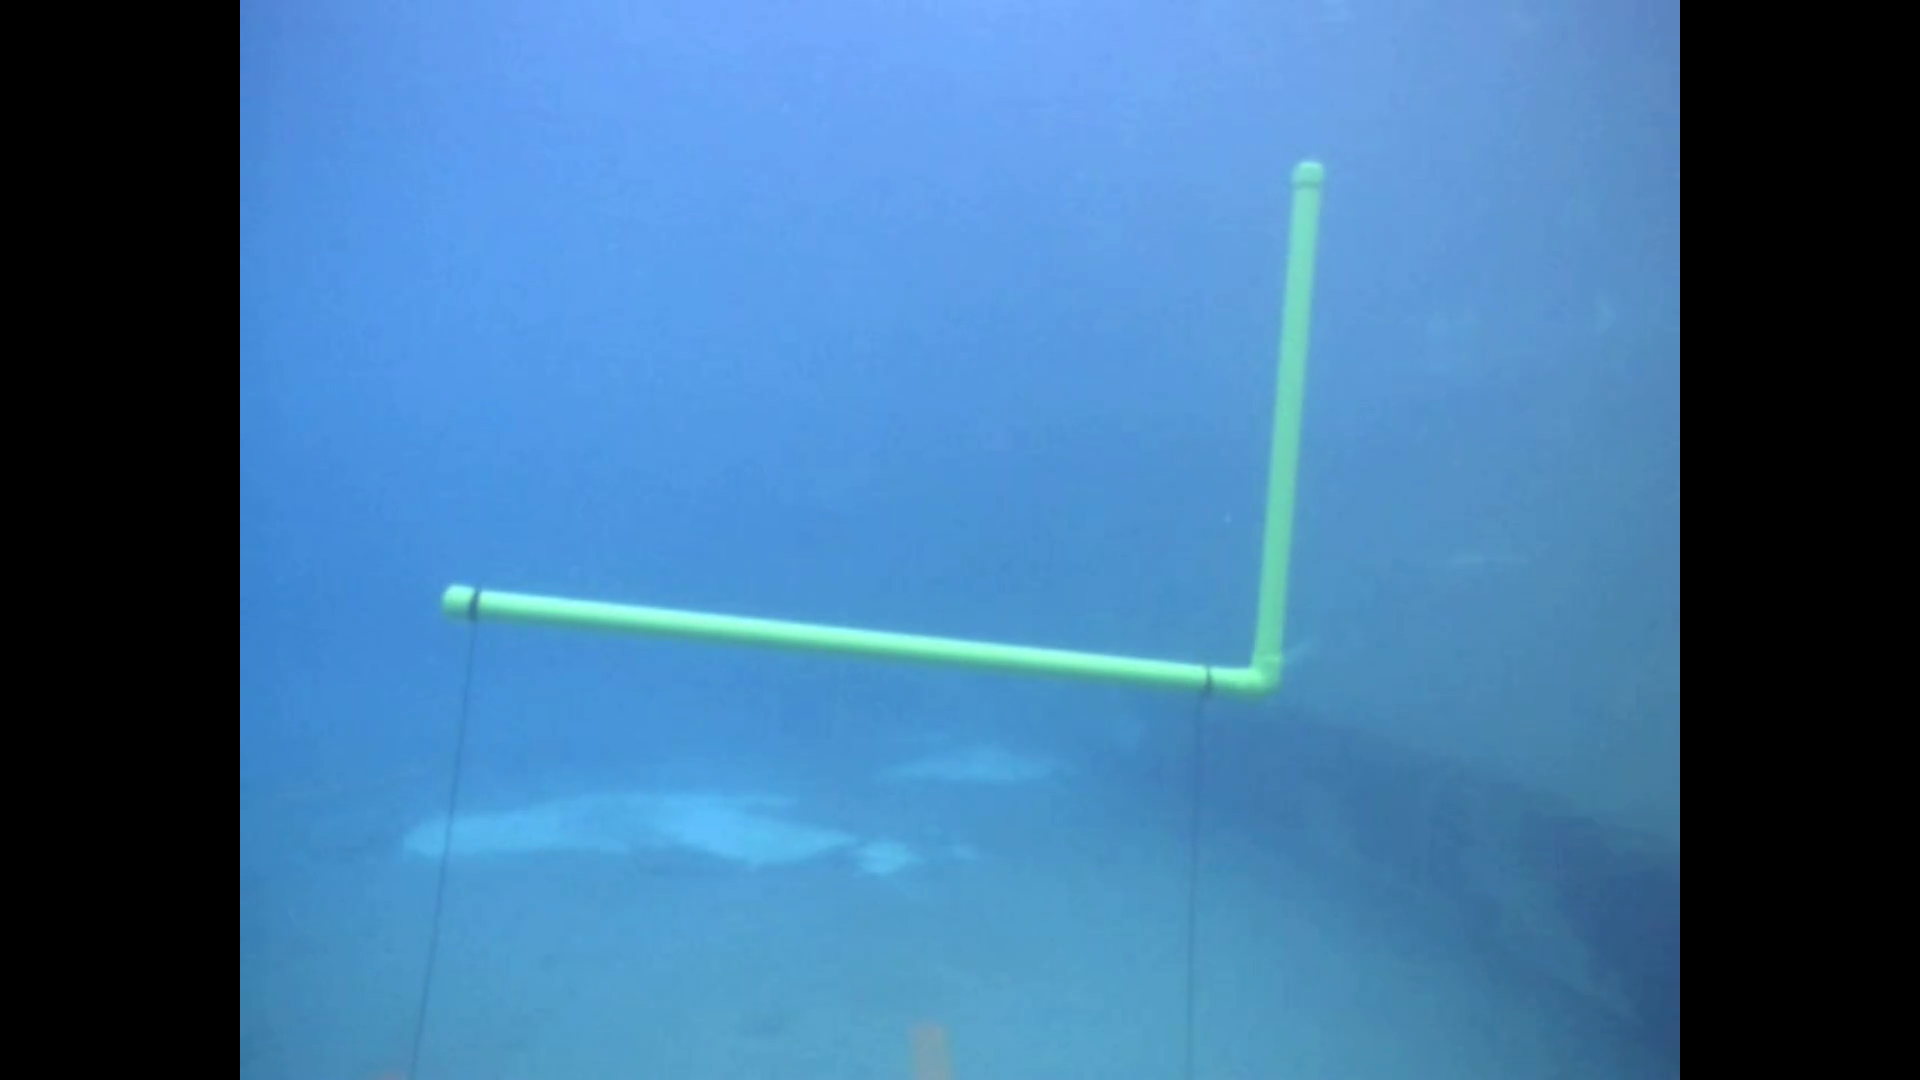gate: (433, 152, 1331, 702)
